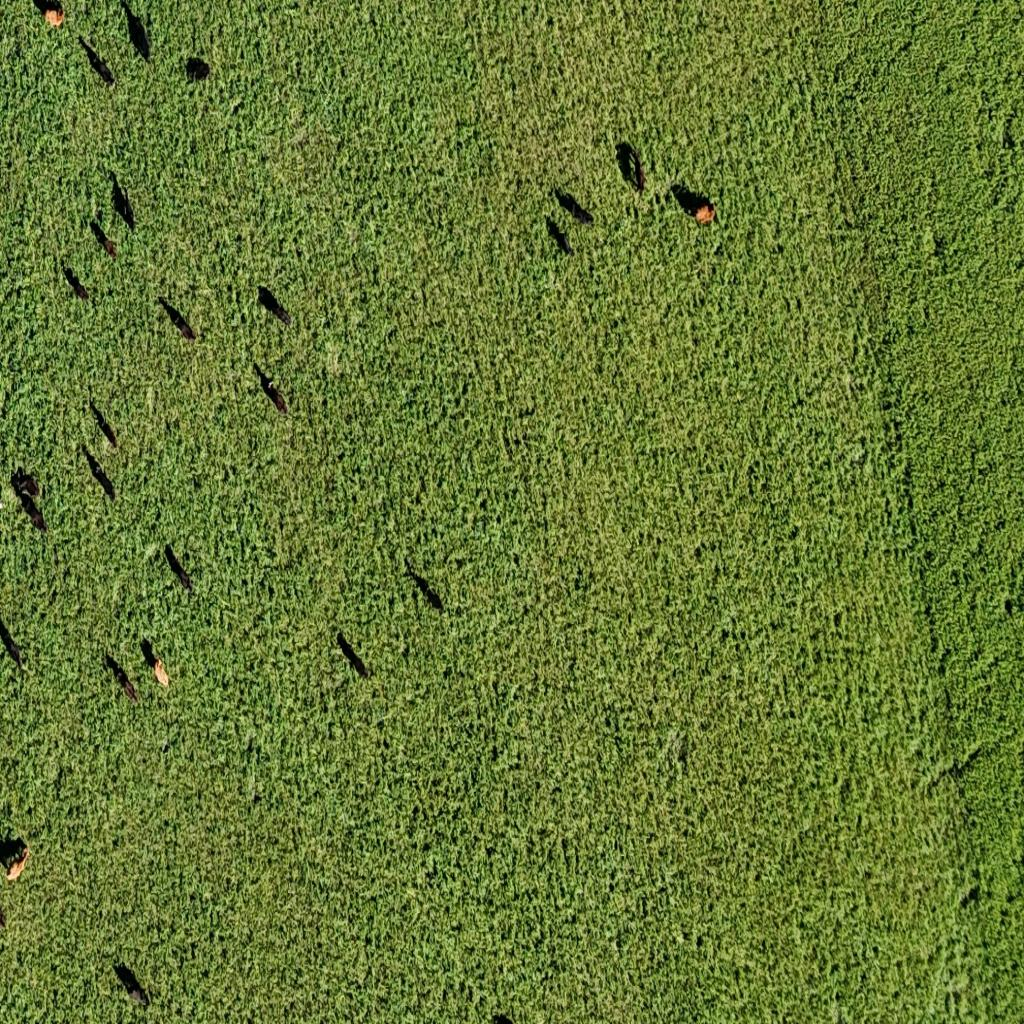cow: (79, 435, 116, 504), (76, 24, 116, 84), (10, 467, 46, 533), (118, 0, 150, 64), (404, 564, 443, 614), (671, 182, 716, 224), (0, 609, 28, 676), (105, 654, 141, 706), (113, 958, 150, 1008), (0, 836, 30, 896), (158, 296, 198, 340), (255, 363, 289, 414), (139, 637, 170, 692), (554, 187, 594, 227), (256, 284, 294, 326), (336, 631, 368, 680), (616, 141, 645, 195), (164, 546, 194, 598), (110, 173, 136, 232), (89, 398, 119, 448), (28, 0, 67, 35), (546, 216, 574, 256), (90, 217, 116, 259), (63, 264, 90, 303), (0, 878, 20, 930), (183, 53, 210, 83), (1002, 120, 1016, 151), (491, 1011, 522, 1023)
